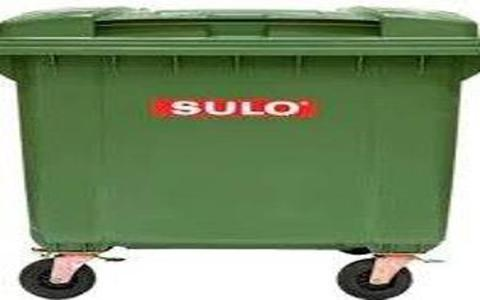Proper garbage: (4, 1, 461, 287)
